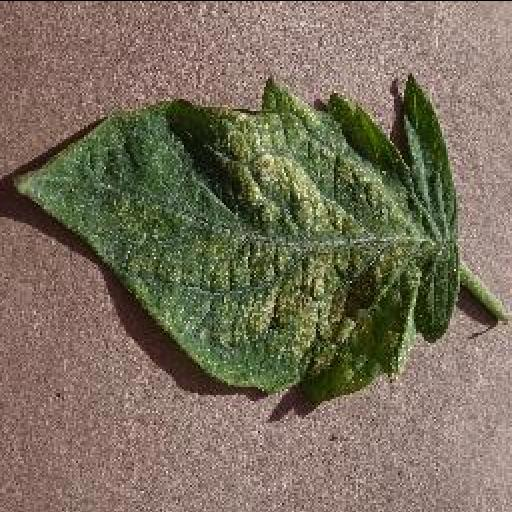disease_tomato: (14, 72, 462, 393)
